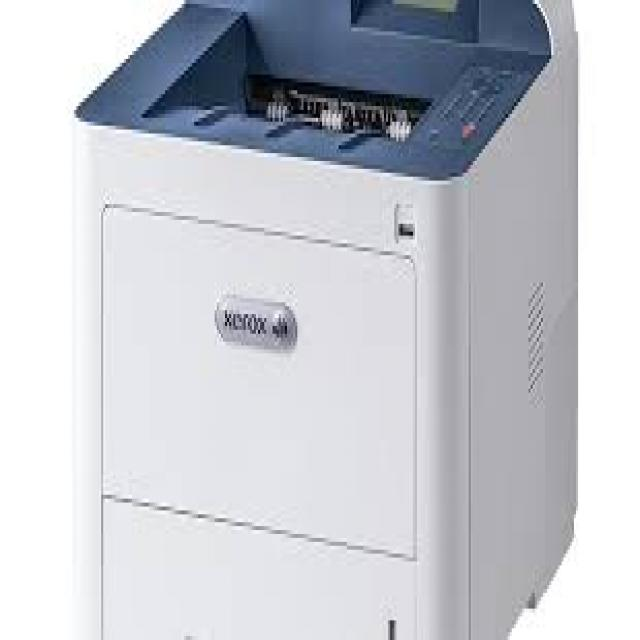printer: (55, 0, 585, 640)
